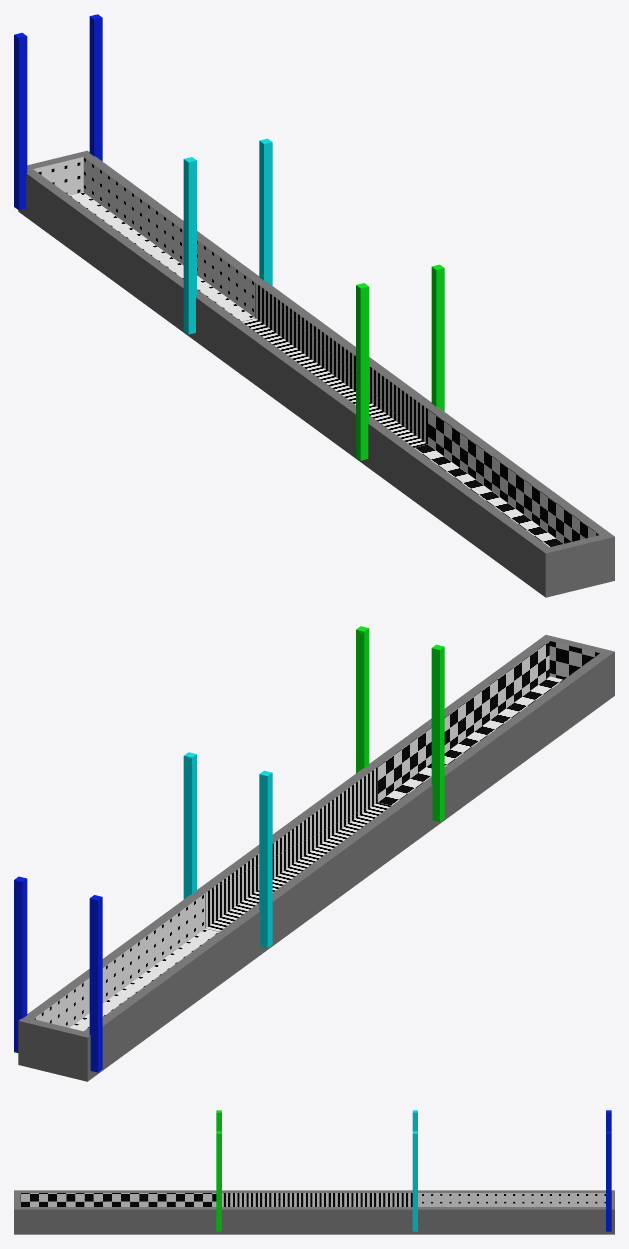
File: maze_01.fbx
3 renders of one model, top to bottom at view 1: azimuth 30°, elevation 25°; view 2: azimuth 150°, elevation 25°; view 3: azimuth 270°, elevation 25°, orthographic. The views are drawn at different scales.
Parts seen in each view (by area): view 1: pasted__pCube1, pasted__pasted__pCube2 (×2), pasted__pasted__pasted__pCube2 (×2), pasted__pasted__pasted__pasted__pCube2, pasted__pCube2; view 2: pasted__pCube1, pasted__pasted__pasted__pCube2 (×2), pasted__pasted__pCube2 (×2), pasted__pasted__pasted__pasted__pCube2, pasted__pCube2; view 3: pasted__pCube1, pasted__pCube2, pasted__pasted__pCube2, pasted__pasted__pasted__pCube2.
Boxes of the visible parts, x1,y1,x2,y2 form: pasted__pCube1: (18,150,614,597); pasted__pasted__pCube2 (×2): (259,138,369,460); pasted__pasted__pasted__pCube2 (×2): (89,14,196,334); pasted__pasted__pasted__pasted__pCube2: (14,32,27,210); pasted__pCube2: (431,264,444,411); pasted__pCube1: (18,635,614,1081); pasted__pasted__pasted__pCube2 (×2): (14,770,272,1052); pasted__pasted__pCube2 (×2): (183,644,444,899); pasted__pasted__pasted__pasted__pCube2: (89,895,102,1072); pasted__pCube2: (356,626,369,773); pasted__pCube1: (14,1190,614,1234); pasted__pCube2: (216,1131,221,1231); pasted__pasted__pCube2: (412,1131,417,1231); pasted__pasted__pasted__pCube2: (606,1131,611,1231).
Bounding box in the file's own units: 10 × 20.6 × 109.
